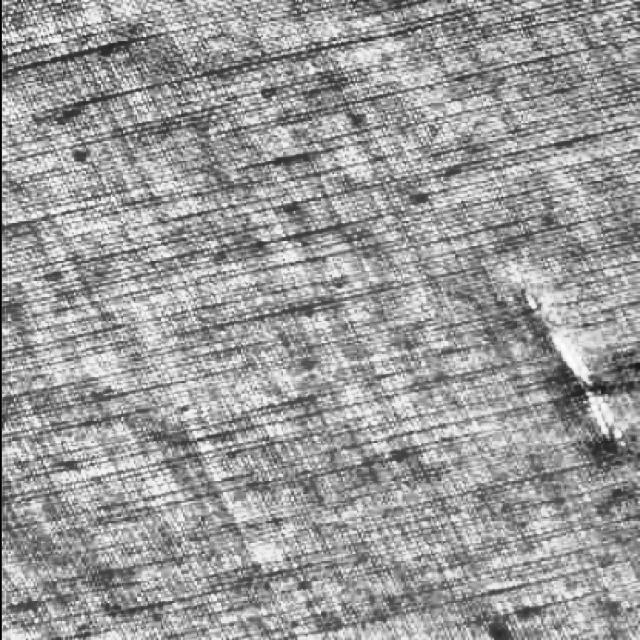thread_error: (517, 263, 639, 470)
